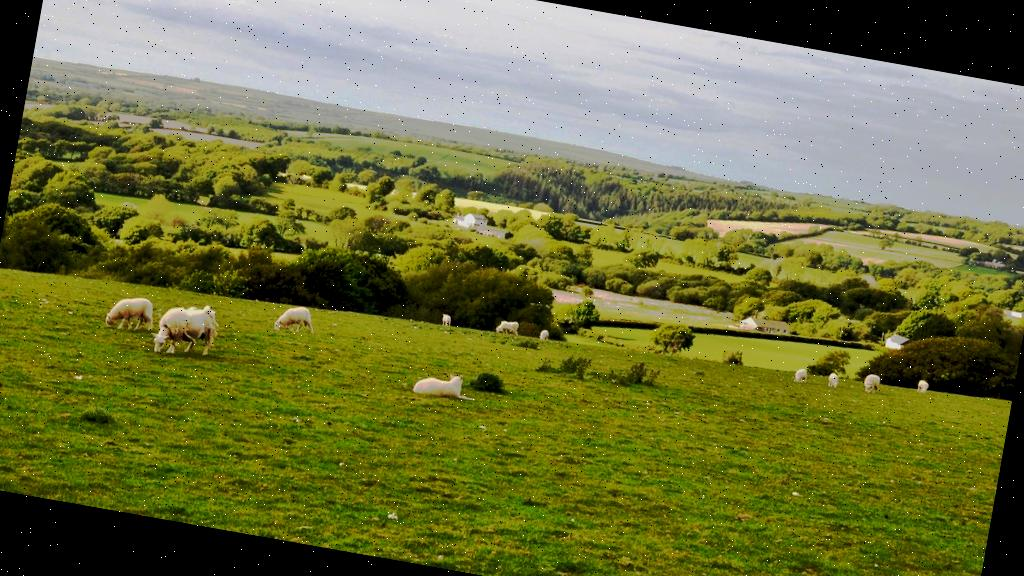Sheep: (146, 297, 222, 366), (408, 364, 483, 406), (268, 301, 320, 339), (102, 293, 152, 331)
